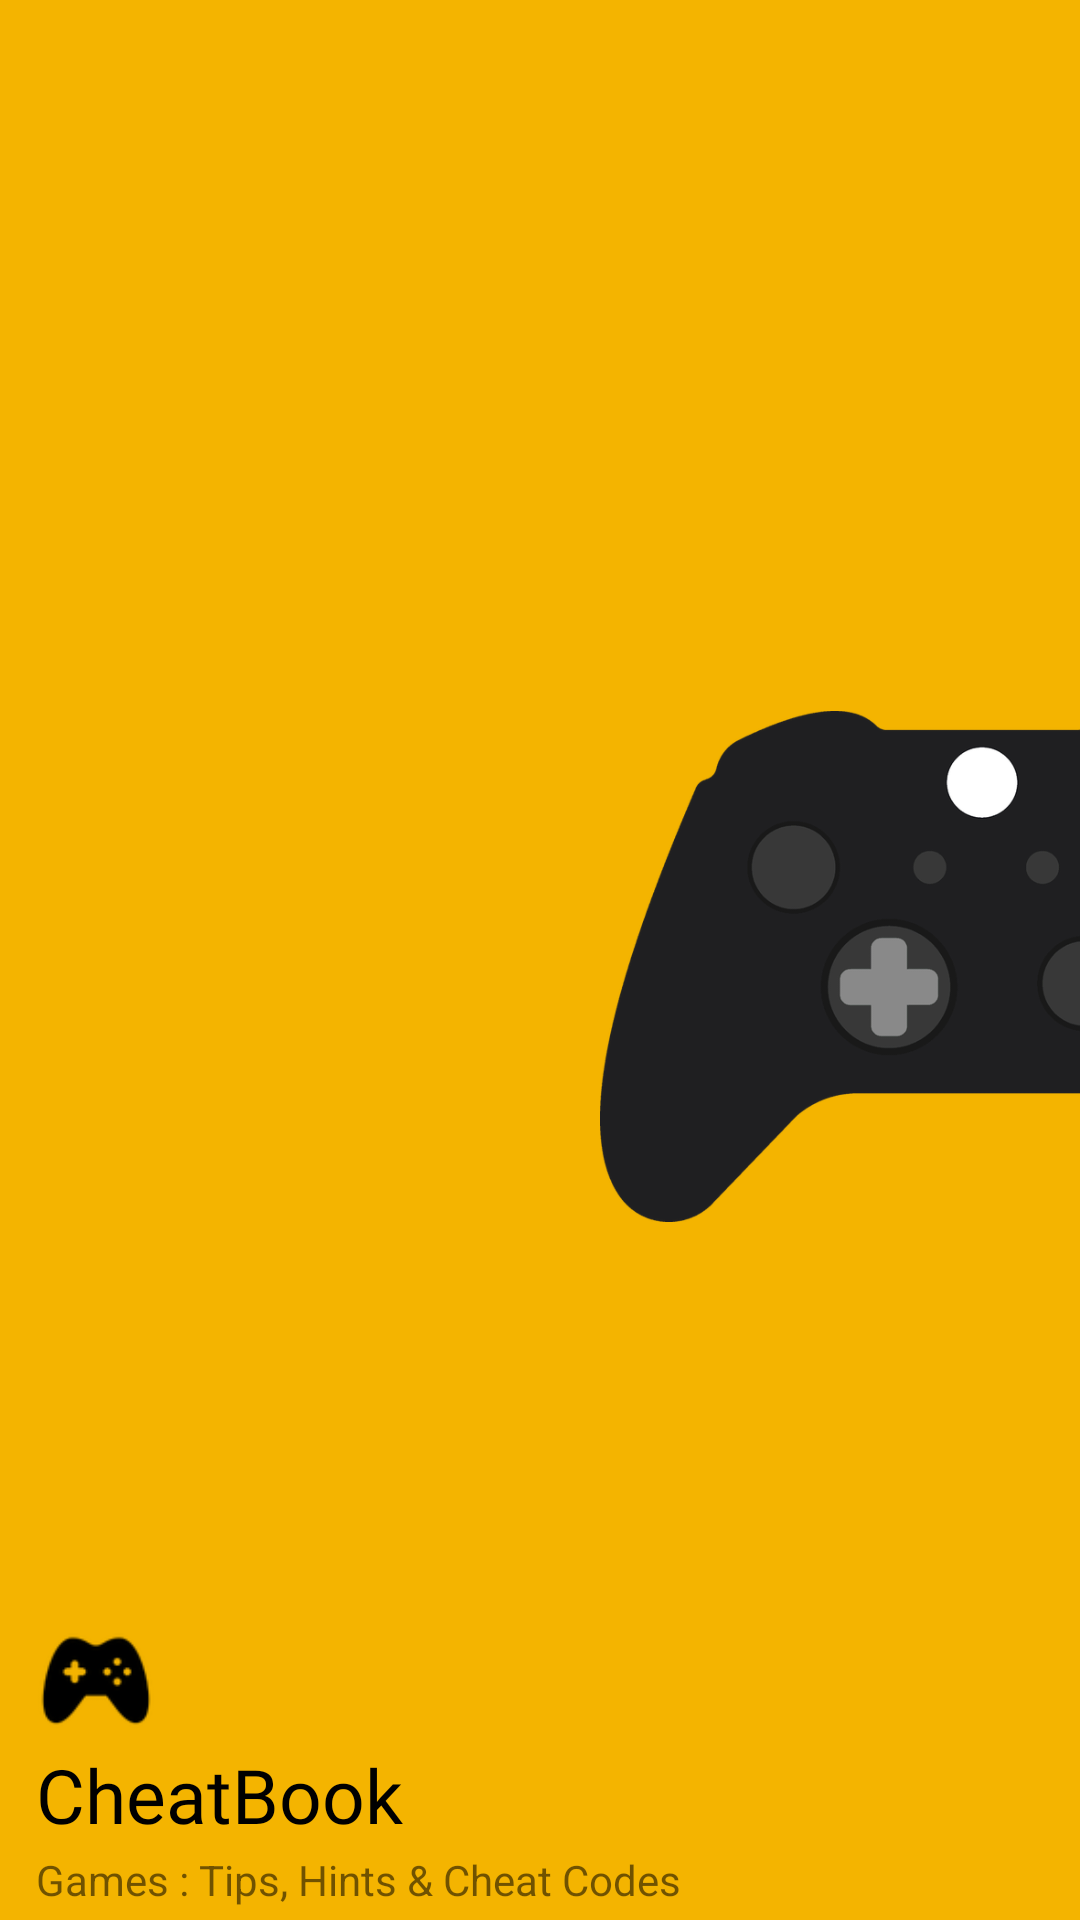

Icon click points for this 1080px x 1920px phone screenshot, format [x,y]:
controller: [96,1680]
